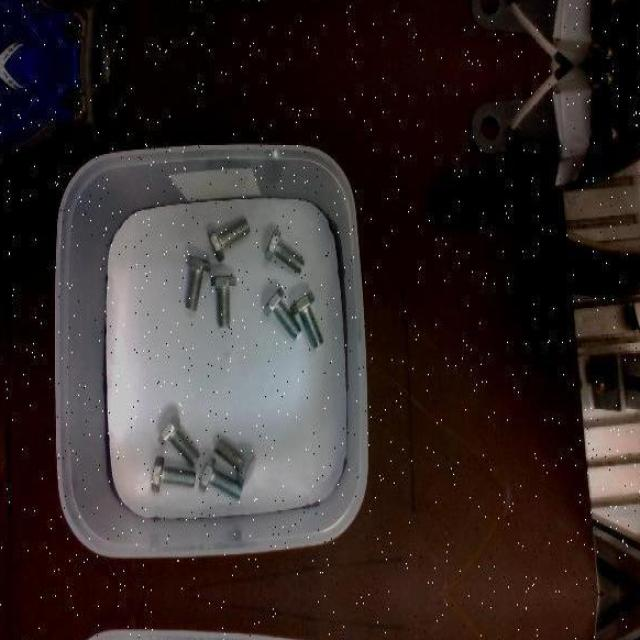screw: (157, 414, 200, 466), (199, 454, 243, 500), (214, 437, 256, 485), (263, 288, 301, 339), (265, 228, 306, 274), (209, 218, 251, 262), (292, 292, 324, 348), (152, 454, 197, 492), (186, 255, 212, 312), (211, 275, 237, 328)
